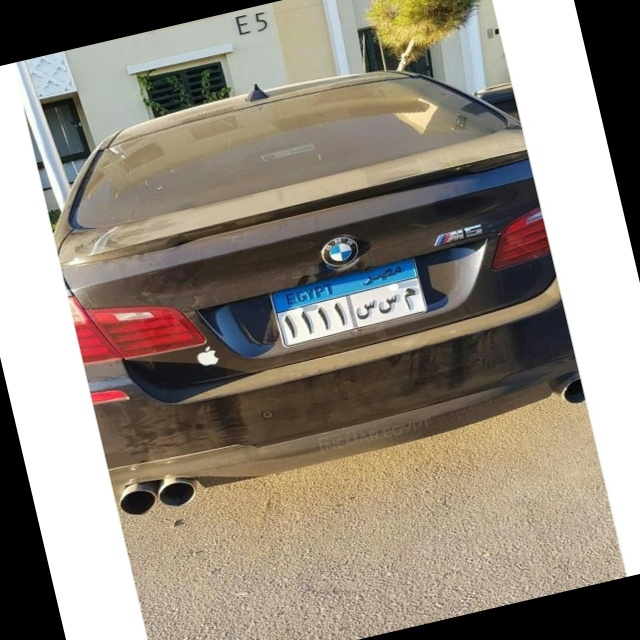License Plate: (266, 256, 433, 352)
